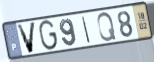8: (117, 10, 135, 38)
9: (59, 16, 78, 48)
G: (38, 19, 59, 52)
I: (81, 15, 92, 44)
Q: (96, 11, 118, 43)
V: (15, 21, 38, 55)
